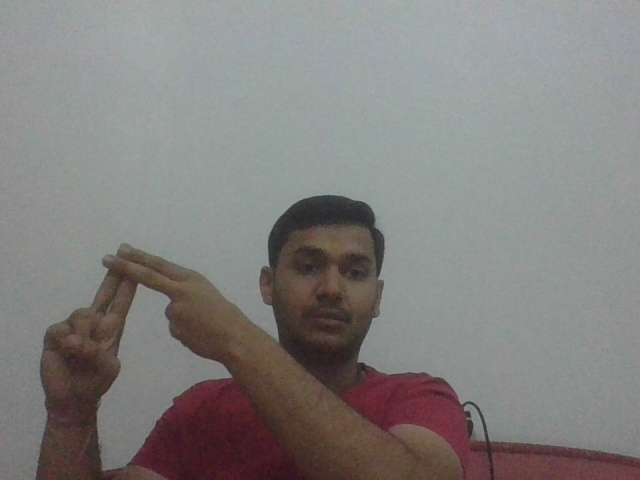F: (35, 241, 251, 383)
